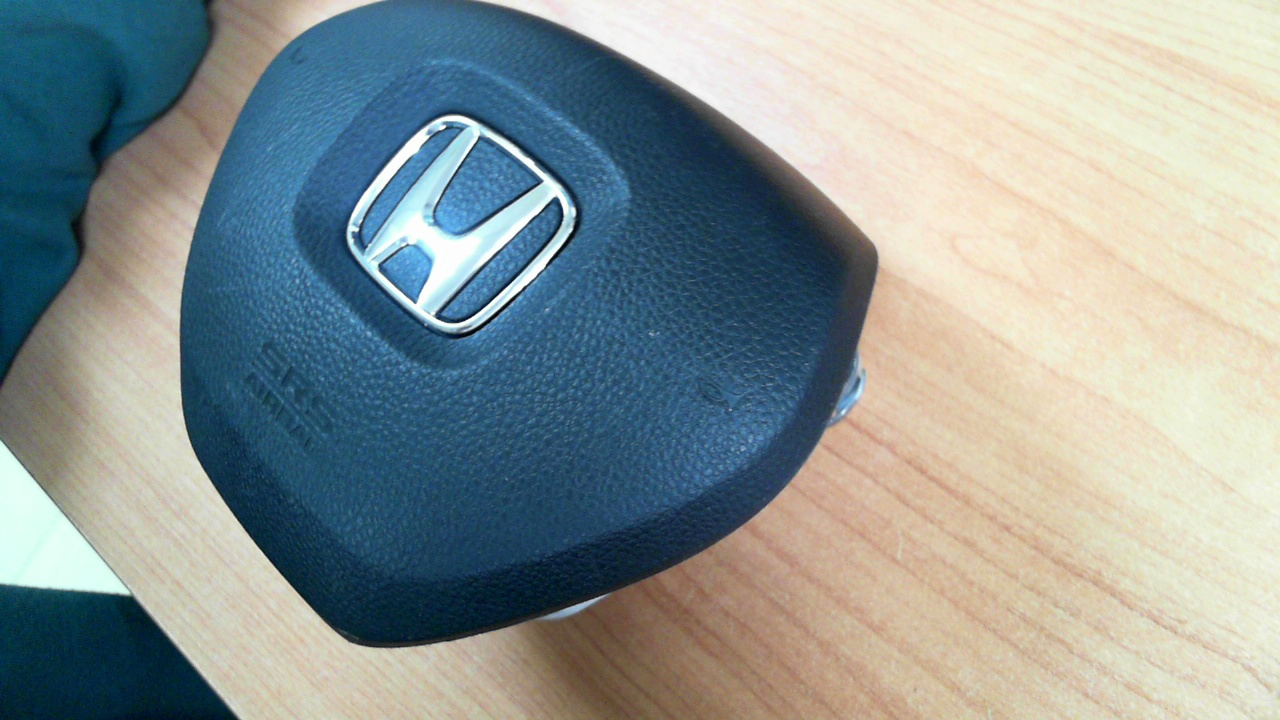Airbag: (178, 1, 880, 650)
Honda: (346, 115, 577, 340)
